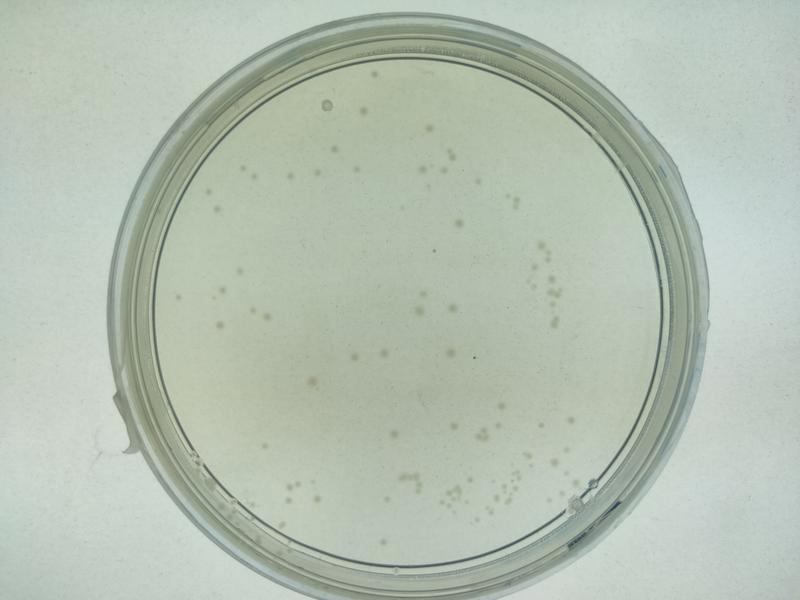colony: (208, 310, 238, 345), (298, 370, 327, 403), (441, 292, 470, 324), (436, 411, 470, 438), (370, 338, 405, 364), (434, 338, 466, 366), (491, 390, 519, 420), (339, 158, 372, 183), (338, 341, 365, 371), (446, 209, 473, 238), (252, 430, 276, 462), (381, 420, 407, 447), (257, 299, 283, 326), (305, 160, 333, 185), (277, 167, 303, 192), (375, 485, 400, 511), (404, 299, 432, 322), (417, 118, 446, 140), (466, 171, 490, 196), (560, 407, 583, 433), (229, 259, 254, 282), (372, 530, 398, 551), (351, 98, 373, 122), (320, 136, 343, 158), (410, 160, 432, 183)
